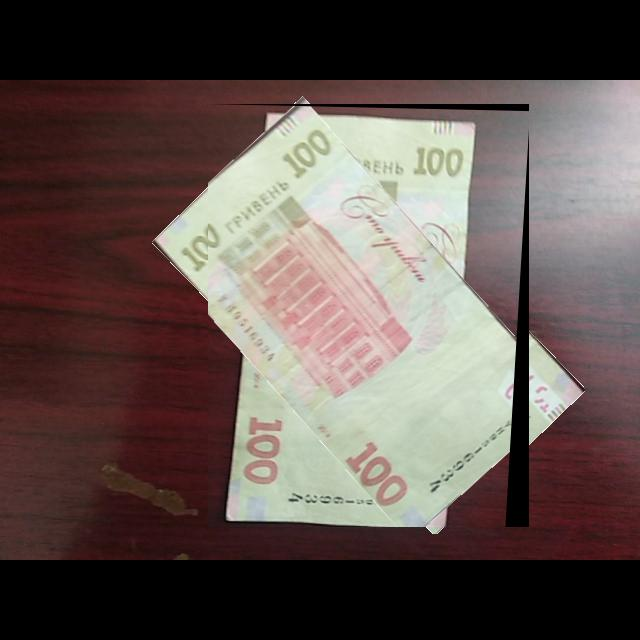100uah: (208, 104, 530, 528)
